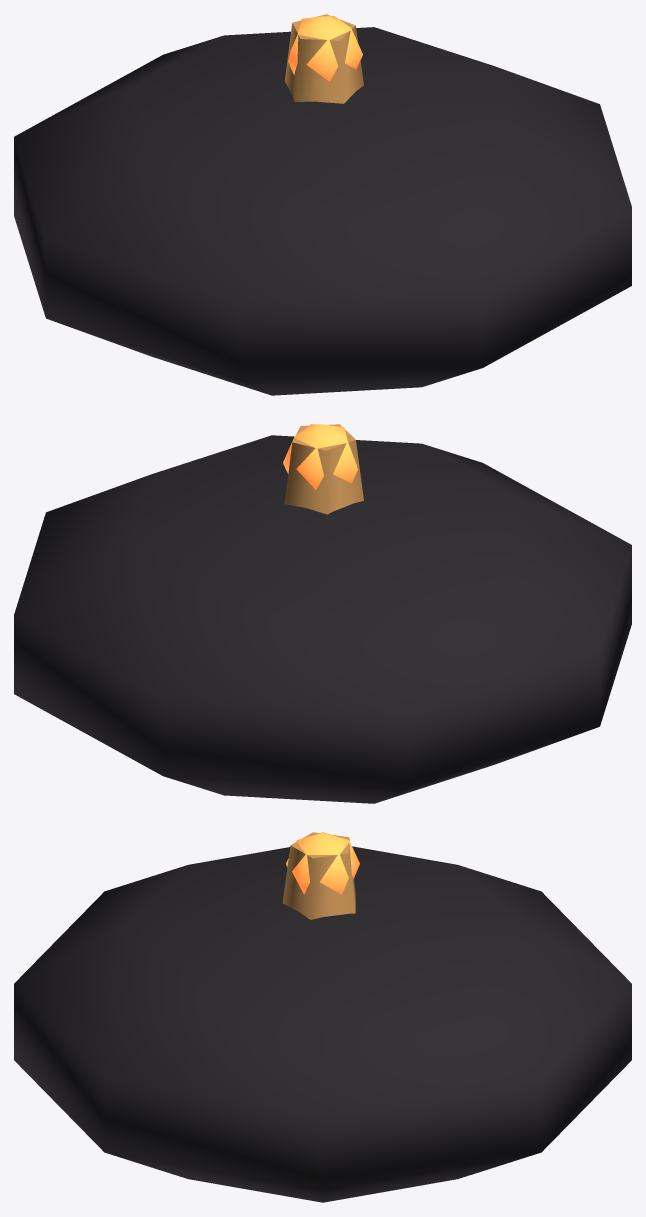
Rendered from mine_pickup.glb.
The picture shows the model from 3 angles, top to bottom: view 1: azimuth 30°, elevation 25°; view 2: azimuth 150°, elevation 25°; view 3: azimuth 270°, elevation 25°; orthographic projection. The views are drawn at different scales.
Parts seen in each view (by area): view 1: shell, fuse, spark; view 2: shell, fuse, spark; view 3: shell, fuse, spark.
Part boxes in pixels (x1,y1,x2,y2): shell: [14, 27, 631, 395]; fuse: [284, 14, 363, 103]; spark: [288, 16, 362, 81]; shell: [14, 435, 631, 803]; fuse: [284, 424, 363, 514]; spark: [283, 424, 357, 489]; shell: [14, 846, 631, 1202]; fuse: [282, 832, 355, 919]; spark: [286, 832, 359, 894].
Size of the model in its own units: 0.0951 by 0.053 by 0.0951.
